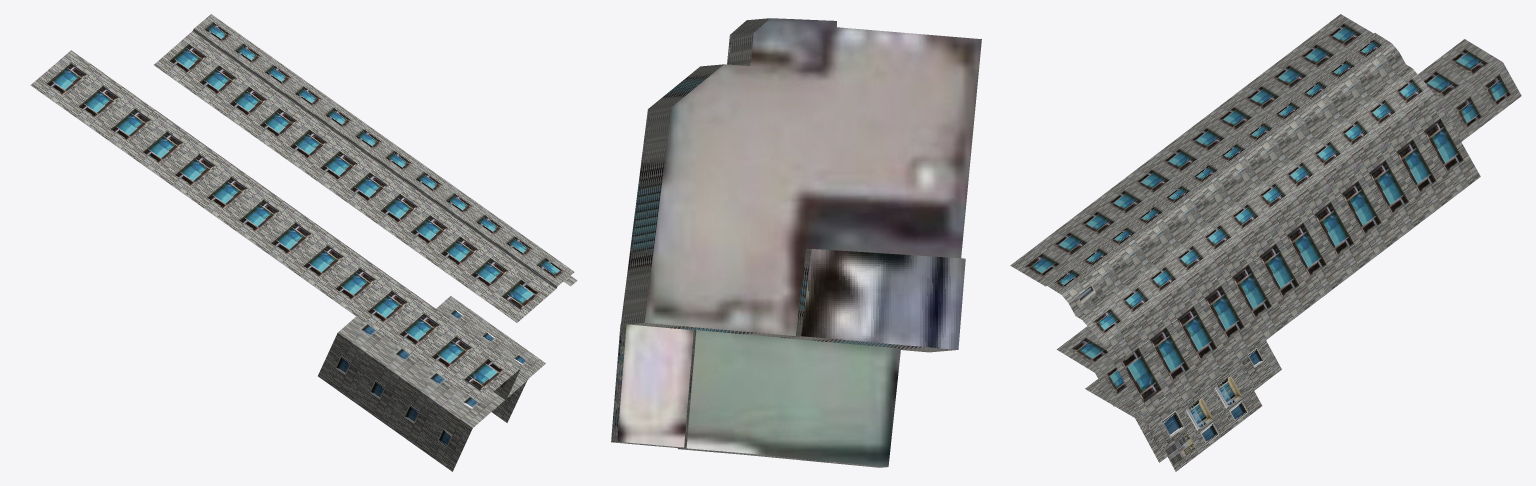
3 views of the same model, side by side, from view 1: azimuth 30°, elevation 25°; view 2: azimuth 150°, elevation 25°; view 3: azimuth 270°, elevation 25° (orthographic). The views are drawn at different scales.
Bounding box in the file's own units: 35.07 × 33.89 × 45.02.
12 materials, 12 textured.
